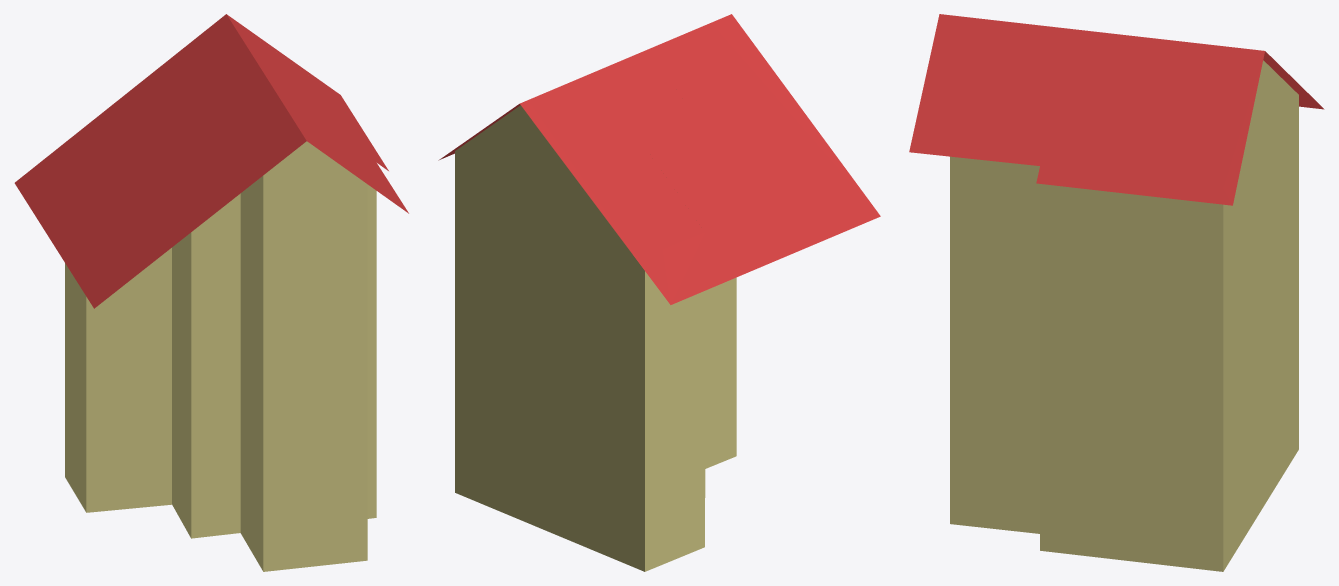
3 views of the same model, side by side, from view 1: azimuth 30°, elevation 25°; view 2: azimuth 150°, elevation 25°; view 3: azimuth 270°, elevation 25° (orthographic). The views are drawn at different scales.
Size of the model in its own units: 8.22 by 7.74 by 9.77.
